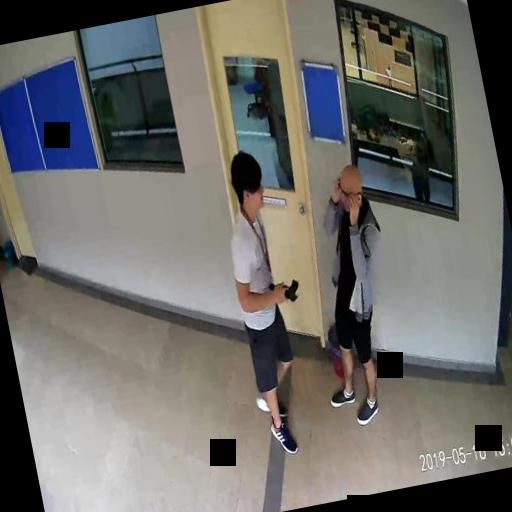Handgun: (267, 276, 300, 306)
